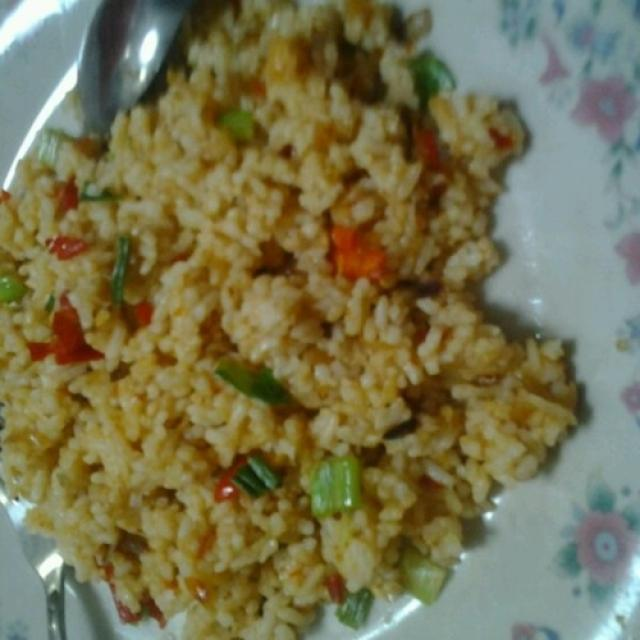米饭主食: (19, 18, 612, 613)
